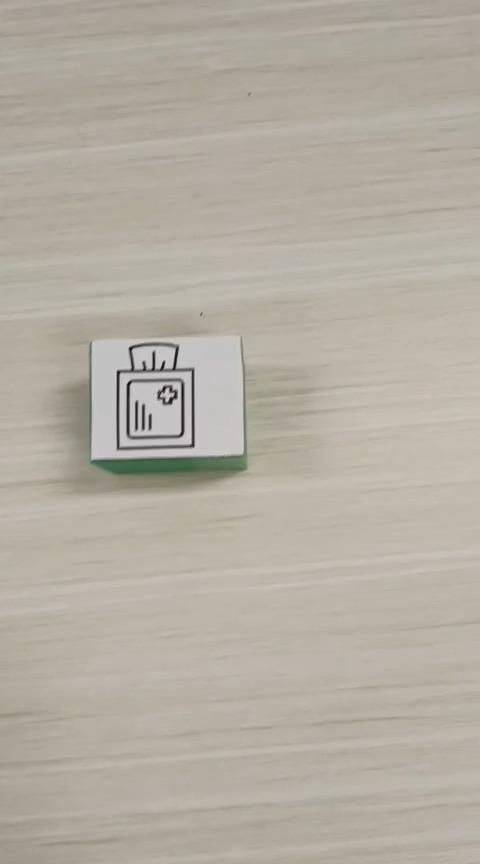Gauze: (88, 333, 248, 474)
